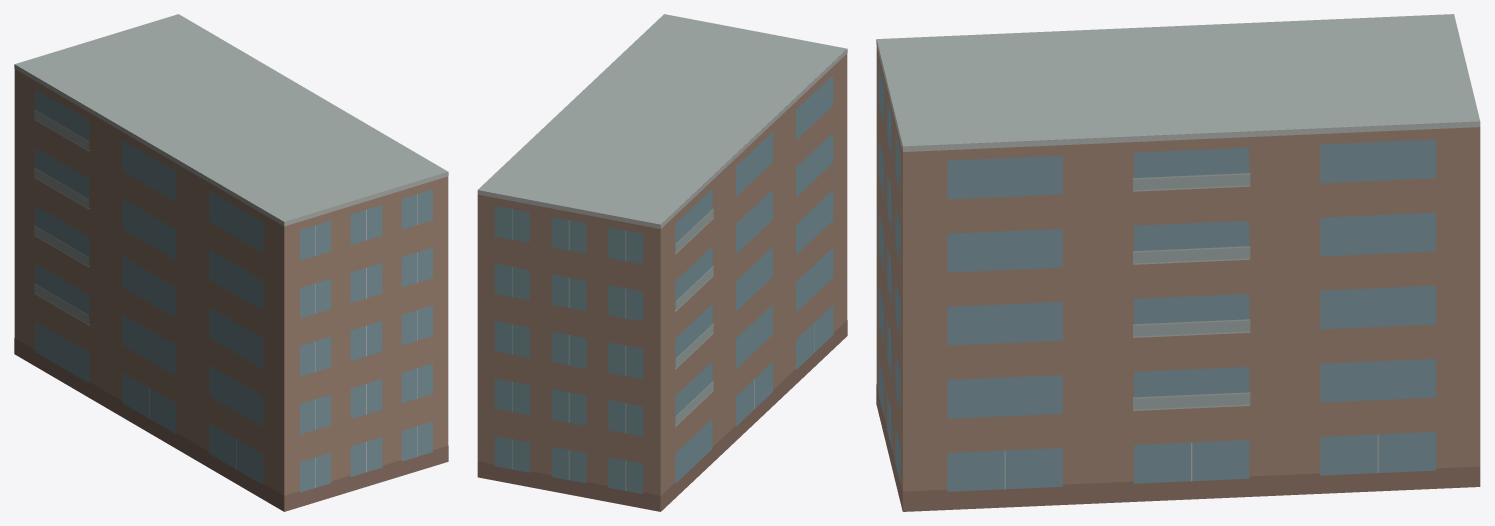
File: survey-upis-33041011.glb
3 renders of one model, left to right at view 1: azimuth 30°, elevation 25°; view 2: azimuth 150°, elevation 25°; view 3: azimuth 270°, elevation 25°, orthographic. The views are drawn at different scales.
Parts seen in each view (by area): view 1: survey-upis-33041011.tmp; view 2: survey-upis-33041011.tmp; view 3: survey-upis-33041011.tmp.
Part boxes in pixels (box(x1,y1,x2,y2)): survey-upis-33041011.tmp: box(14, 14, 448, 511); survey-upis-33041011.tmp: box(477, 14, 847, 511); survey-upis-33041011.tmp: box(876, 14, 1480, 511).
Bounding box in the file's own units: 12.13 × 15.6 × 23.37.
